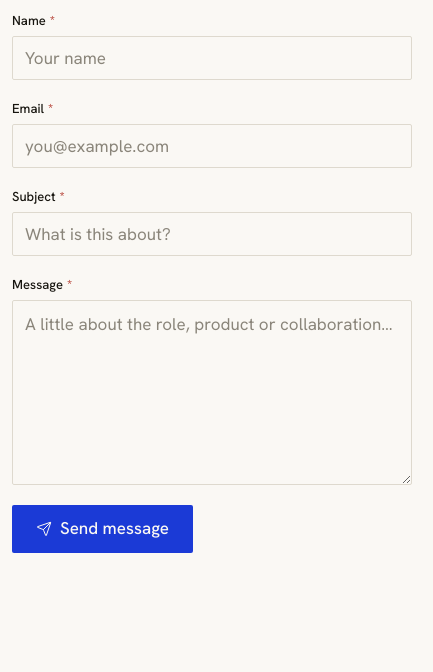
Scenario: ContactForm — validation (§06) › shows the frozen required-field errors and blocks submission when empty
Click the button "Send message". click: click(102, 529)
box: [12,505,193,553]
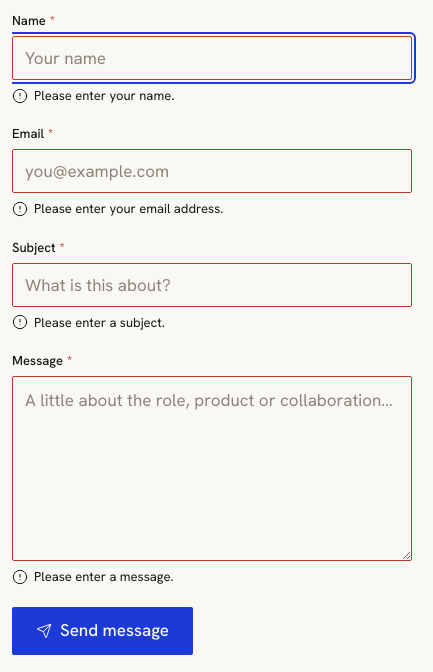
Result: the text "Please enter your name." is shown at [34,86,174,105]
Result: the text "Please enter your email address." is shown at [34,199,223,219]
Result: the text "Please enter a subject." is shown at [34,313,165,332]
